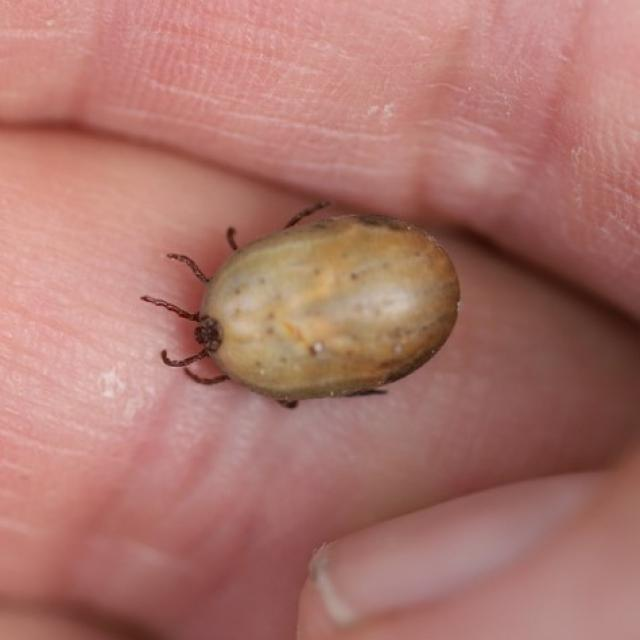Dermacentor Reticulatus-F-Fed: (140, 200, 461, 409)
